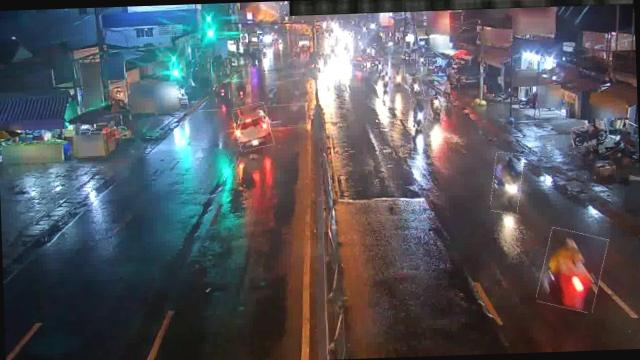Bike: (538, 228, 607, 312), (491, 152, 524, 214), (570, 123, 608, 146), (408, 96, 429, 128), (233, 80, 251, 101), (408, 76, 424, 98), (430, 97, 444, 121), (217, 81, 230, 102), (380, 70, 393, 90), (394, 65, 405, 87)
Car: (234, 103, 272, 150)
